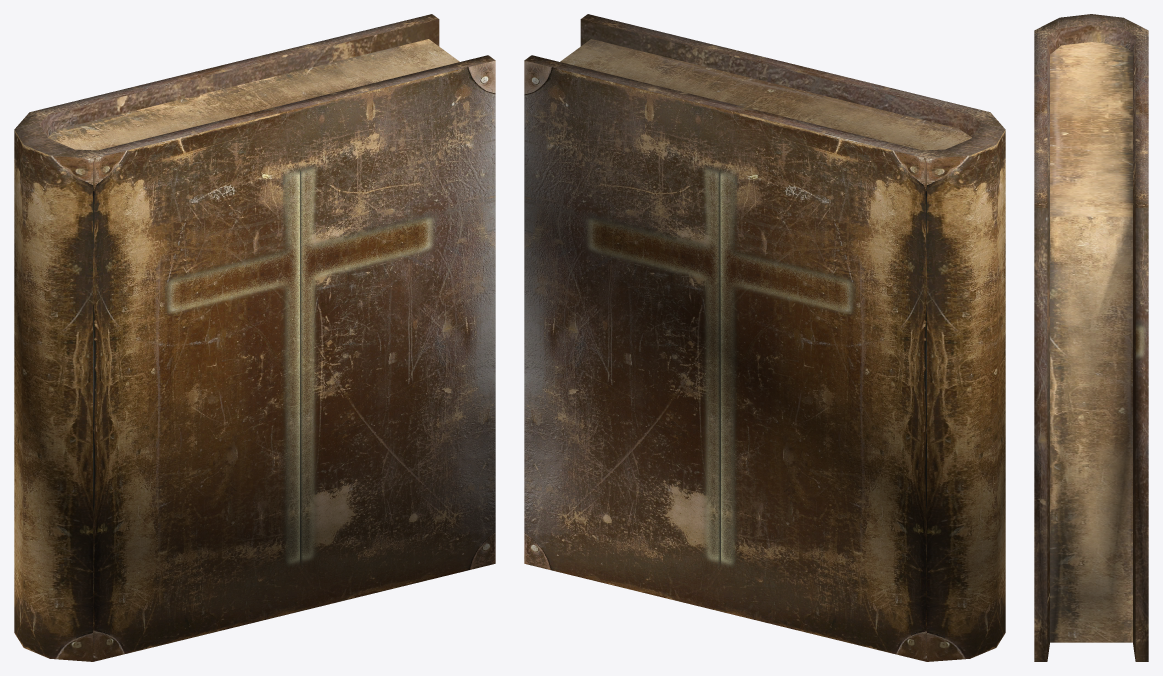
Rendered from bible.fbx.
3 views of the same model, side by side, from view 1: azimuth 30°, elevation 25°; view 2: azimuth 150°, elevation 25°; view 3: azimuth 270°, elevation 25° (orthographic). The views are drawn at different scales.
Visible parts, largest first — view 1: Form0; view 2: Form0; view 3: Form0.
Part boxes in pixels (x1,y1,x2,y2): Form0: (14, 14, 495, 661); Form0: (524, 14, 1005, 661); Form0: (1034, 14, 1148, 661).
Bounding box in the file's own units: 8.92 × 9.74 × 2.23.
Materials: 1 (1 with a texture image).
